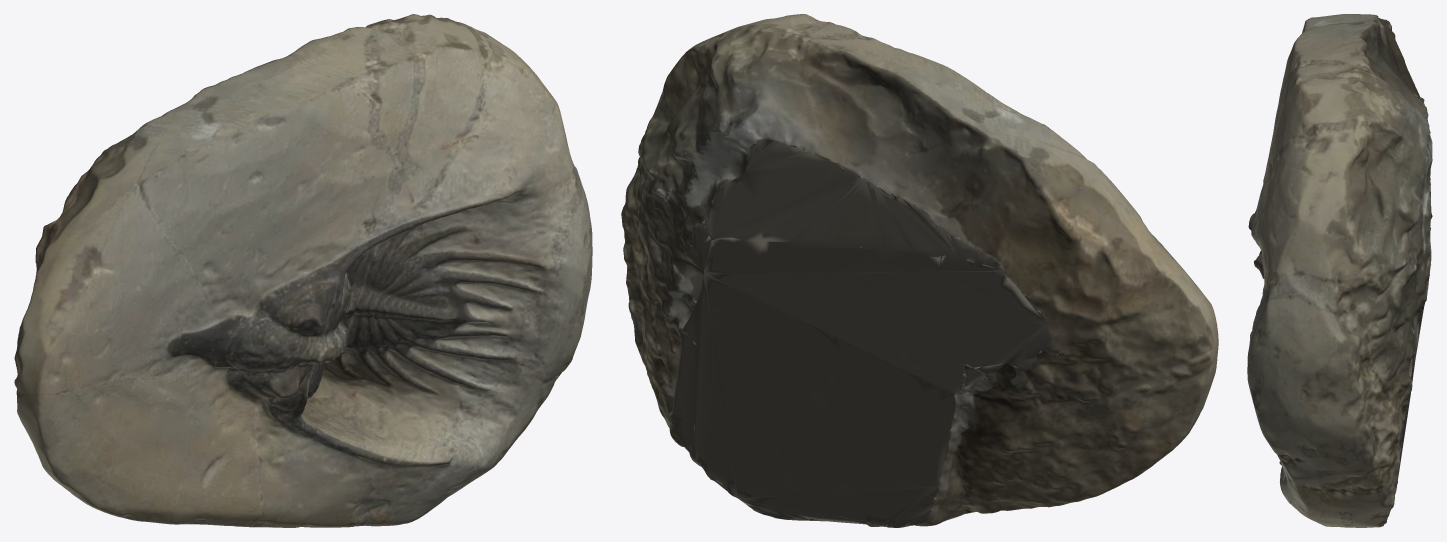
The picture shows the model from 3 angles, left to right: view 1: azimuth 30°, elevation 25°; view 2: azimuth 150°, elevation 25°; view 3: azimuth 270°, elevation 25°; orthographic projection. The views are drawn at different scales.
Visible parts, largest first — view 1: Psychopyge_elegans_Termier_-_Termier__1950-unwrapped-webmult; view 2: Psychopyge_elegans_Termier_-_Termier__1950-unwrapped-webmult; view 3: Psychopyge_elegans_Termier_-_Termier__1950-unwrapped-webmult.
Part boxes in pixels (bbox=[...]): Psychopyge_elegans_Termier_-_Termier__1950-unwrapped-webmult: bbox=[14, 14, 592, 527]; Psychopyge_elegans_Termier_-_Termier__1950-unwrapped-webmult: bbox=[621, 14, 1218, 527]; Psychopyge_elegans_Termier_-_Termier__1950-unwrapped-webmult: bbox=[1247, 14, 1432, 527].
Size of the model in its own units: 5453 by 4407 by 1639.
Materials: 1 (1 with a texture image).
